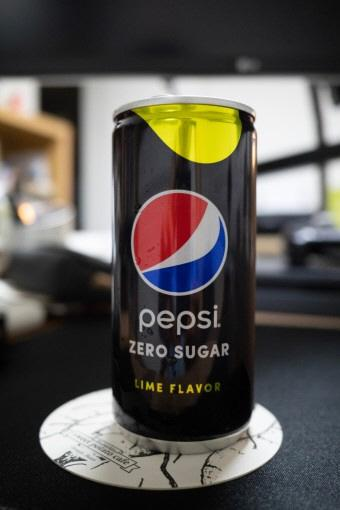pepsi_zero: (105, 94, 261, 460)
